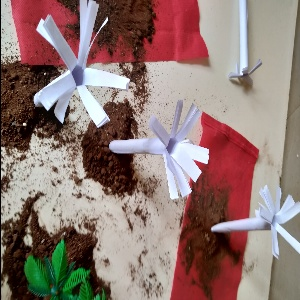plant: (17, 231, 107, 300)
weed: (18, 5, 120, 125), (124, 104, 224, 210), (218, 184, 300, 257), (228, 10, 283, 95)
